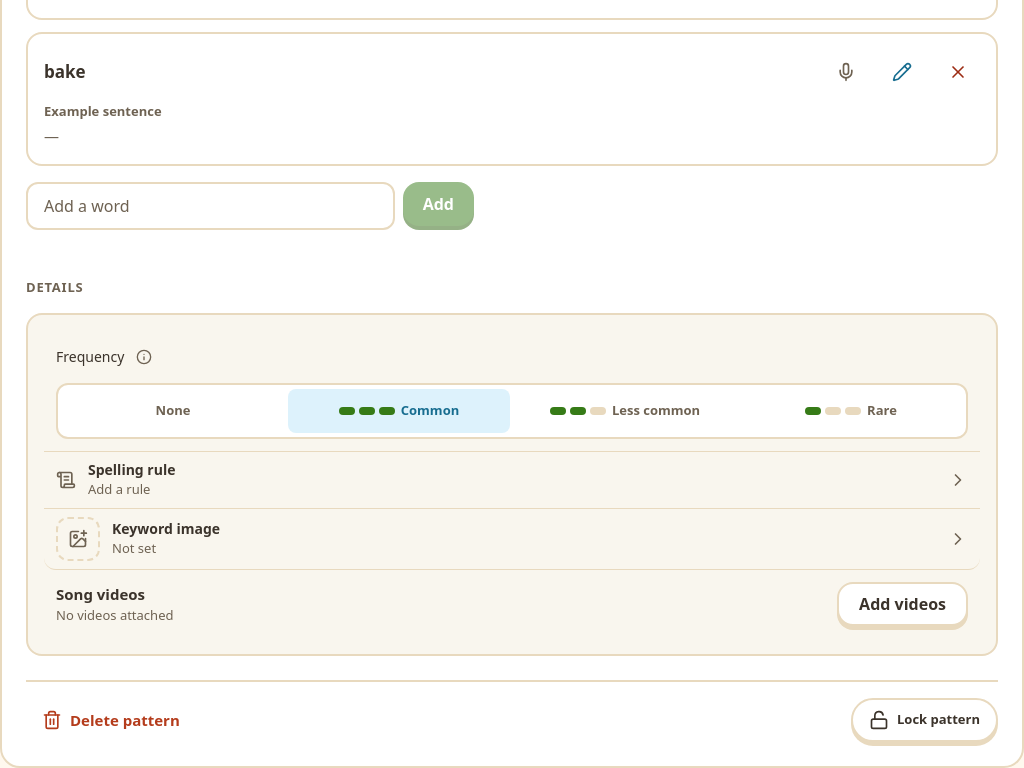
Test: PatternEditor mobile rule affordance (issue #313) › opens the rule dialog from the card row with the textarea reachable
The width and height of the screenshot is (1024, 768).
(page scrolled)
Click the button with aria-label "Add rule for a_e". click: (132, 470)
box: x1=44 y1=452 x2=980 y2=508
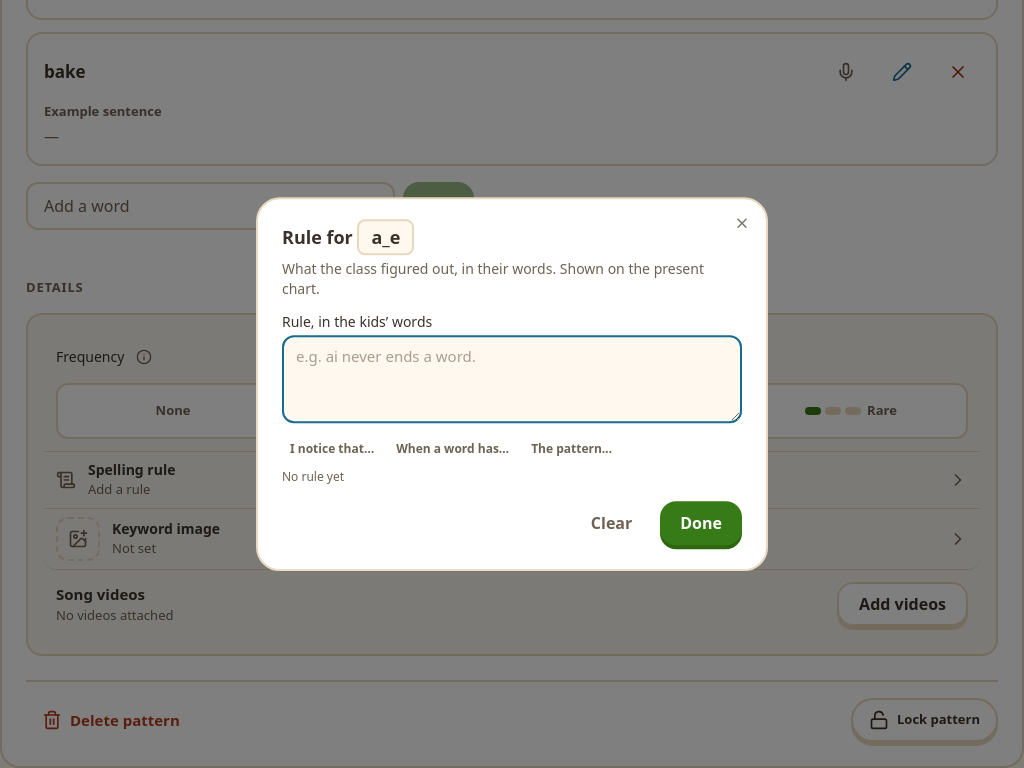
Now the dialog "Rule for a_e" is shown, box x1=256 y1=197 x2=768 y2=571
Now the text box labelled "Rule, in the kids’ words" is shown, box x1=282 y1=335 x2=742 y2=423
